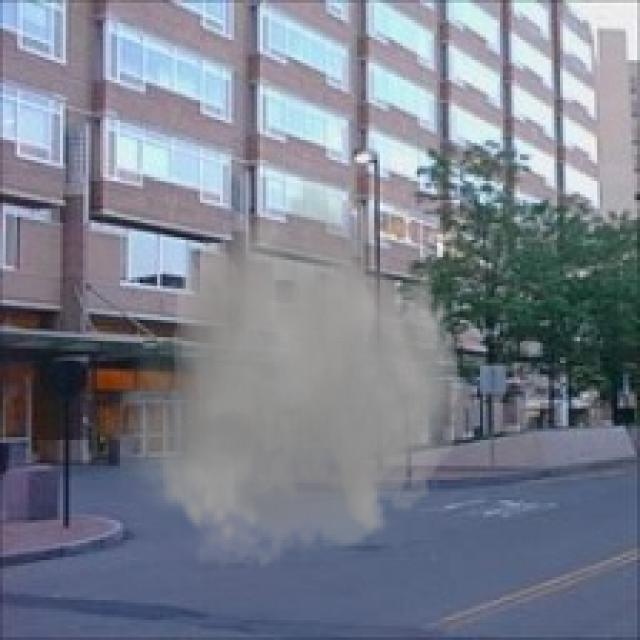Smoke: (102, 163, 468, 586)
